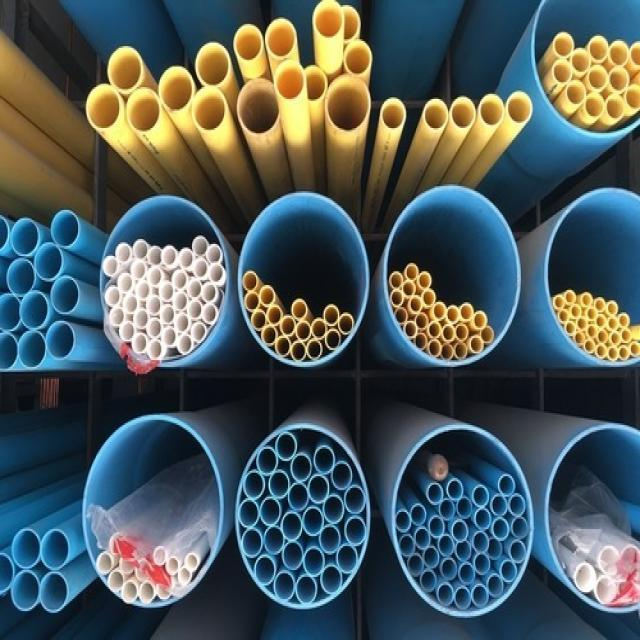pipe: (391, 424, 534, 616), (83, 417, 222, 605), (383, 186, 520, 366), (237, 426, 369, 607), (240, 194, 369, 366), (101, 196, 229, 367), (546, 426, 639, 615), (544, 187, 640, 366), (326, 73, 371, 135), (236, 78, 279, 136), (158, 64, 194, 113), (191, 85, 226, 134), (196, 41, 232, 87), (87, 84, 121, 131), (107, 47, 142, 92), (262, 17, 298, 60), (127, 89, 158, 135), (272, 60, 305, 99), (40, 528, 69, 571), (17, 328, 46, 371), (312, 0, 343, 40), (19, 291, 51, 329), (33, 243, 64, 281), (39, 574, 69, 613), (46, 321, 76, 360), (234, 22, 263, 62), (12, 528, 40, 569), (9, 218, 40, 255), (6, 259, 37, 296), (51, 276, 79, 316), (52, 209, 79, 249), (302, 66, 330, 103), (12, 572, 39, 610), (449, 95, 477, 131), (379, 94, 406, 131), (507, 85, 533, 123), (477, 94, 505, 129), (422, 95, 449, 131), (343, 41, 371, 74), (0, 295, 22, 333), (0, 332, 18, 373), (598, 546, 622, 576), (574, 563, 597, 594), (291, 452, 313, 484), (308, 474, 330, 506), (586, 35, 610, 64), (257, 447, 279, 477), (253, 556, 275, 586), (319, 525, 341, 555), (276, 431, 297, 462), (281, 512, 302, 543), (261, 498, 283, 527), (337, 544, 359, 573), (595, 575, 617, 604), (303, 547, 324, 577), (313, 446, 335, 474), (303, 508, 325, 536), (342, 6, 360, 40), (344, 486, 365, 515), (288, 482, 309, 511), (241, 529, 262, 558), (344, 518, 365, 547), (323, 494, 343, 524), (263, 526, 285, 553), (274, 572, 295, 600), (609, 39, 630, 67), (0, 553, 14, 594), (282, 542, 303, 569), (321, 567, 342, 594), (332, 462, 352, 490), (296, 575, 316, 603), (244, 473, 264, 500), (554, 32, 574, 59), (605, 94, 625, 121), (239, 501, 259, 527), (609, 68, 629, 94), (270, 470, 289, 497), (588, 65, 608, 90), (585, 92, 604, 118), (571, 48, 591, 72), (552, 60, 572, 84), (566, 81, 586, 104), (436, 583, 454, 607), (471, 584, 489, 607), (511, 517, 529, 539), (323, 304, 340, 327), (97, 552, 114, 575), (498, 474, 515, 497), (500, 560, 517, 583), (486, 575, 503, 598), (491, 493, 508, 516), (438, 534, 455, 557), (509, 494, 525, 518), (291, 298, 308, 320), (492, 519, 509, 541), (414, 527, 431, 549), (178, 247, 194, 270), (456, 497, 472, 520), (423, 546, 439, 569), (624, 86, 639, 110), (338, 313, 355, 334), (192, 236, 209, 257), (116, 242, 133, 263), (146, 318, 163, 339), (132, 333, 149, 354), (147, 340, 164, 361), (472, 531, 489, 552), (426, 483, 443, 504), (420, 570, 437, 591), (311, 317, 327, 339), (280, 315, 296, 337), (509, 541, 525, 563), (459, 562, 475, 584), (455, 587, 471, 609), (429, 516, 445, 538), (399, 534, 415, 556), (408, 554, 424, 576), (174, 313, 191, 333), (133, 309, 150, 329), (324, 328, 340, 349), (242, 270, 258, 291), (202, 282, 218, 303), (103, 256, 119, 277), (162, 246, 178, 267), (410, 505, 426, 526), (439, 499, 455, 520), (452, 520, 468, 541), (291, 340, 306, 362), (122, 581, 137, 603), (396, 510, 411, 532), (441, 558, 456, 580), (145, 296, 162, 315), (306, 339, 322, 359), (259, 286, 275, 306), (131, 260, 147, 280), (172, 270, 188, 290), (118, 273, 134, 293), (123, 294, 139, 314), (162, 327, 178, 347), (474, 554, 490, 574), (475, 510, 491, 530), (276, 336, 291, 357), (262, 325, 277, 346), (267, 305, 282, 326), (148, 246, 163, 267), (136, 280, 151, 301), (140, 582, 155, 603), (473, 486, 488, 507), (448, 479, 463, 500), (187, 278, 201, 300), (487, 539, 501, 561), (206, 245, 222, 264), (208, 263, 224, 282), (186, 301, 202, 320), (296, 321, 311, 341), (252, 310, 267, 330), (245, 291, 260, 311), (193, 258, 208, 278), (192, 322, 207, 342), (148, 267, 163, 287), (159, 282, 174, 302), (120, 322, 135, 342), (108, 570, 123, 590), (202, 304, 217, 323), (133, 240, 148, 259), (105, 287, 120, 306), (110, 307, 125, 326), (177, 335, 192, 354), (456, 542, 471, 561), (185, 553, 199, 572), (160, 306, 175, 323), (473, 311, 487, 329), (402, 280, 416, 298), (390, 289, 404, 307), (174, 292, 188, 310), (178, 567, 192, 585), (470, 334, 483, 353), (153, 547, 167, 564), (481, 326, 494, 344), (460, 303, 473, 321), (455, 323, 468, 341), (440, 343, 453, 361), (433, 302, 446, 320), (418, 271, 431, 289), (427, 322, 441, 338), (454, 342, 467, 359), (442, 324, 455, 341), (390, 272, 403, 289), (166, 558, 179, 575), (423, 290, 436, 306), (405, 263, 418, 279), (395, 308, 408, 324), (564, 290, 577, 306), (447, 306, 459, 323), (405, 322, 417, 339), (409, 297, 422, 312), (572, 331, 585, 346), (428, 340, 440, 356), (553, 295, 565, 311), (580, 292, 592, 308), (595, 343, 607, 359), (416, 312, 427, 329), (569, 305, 581, 320), (596, 329, 608, 344), (618, 345, 629, 361), (584, 338, 595, 354), (558, 310, 570, 324), (586, 306, 598, 320), (607, 301, 618, 316), (610, 331, 621, 346), (607, 346, 618, 361), (587, 324, 598, 339), (619, 312, 629, 328), (577, 315, 587, 331), (595, 299, 606, 313), (565, 322, 576, 336), (608, 317, 619, 330), (621, 329, 631, 343), (596, 314, 606, 328), (630, 342, 639, 357)
